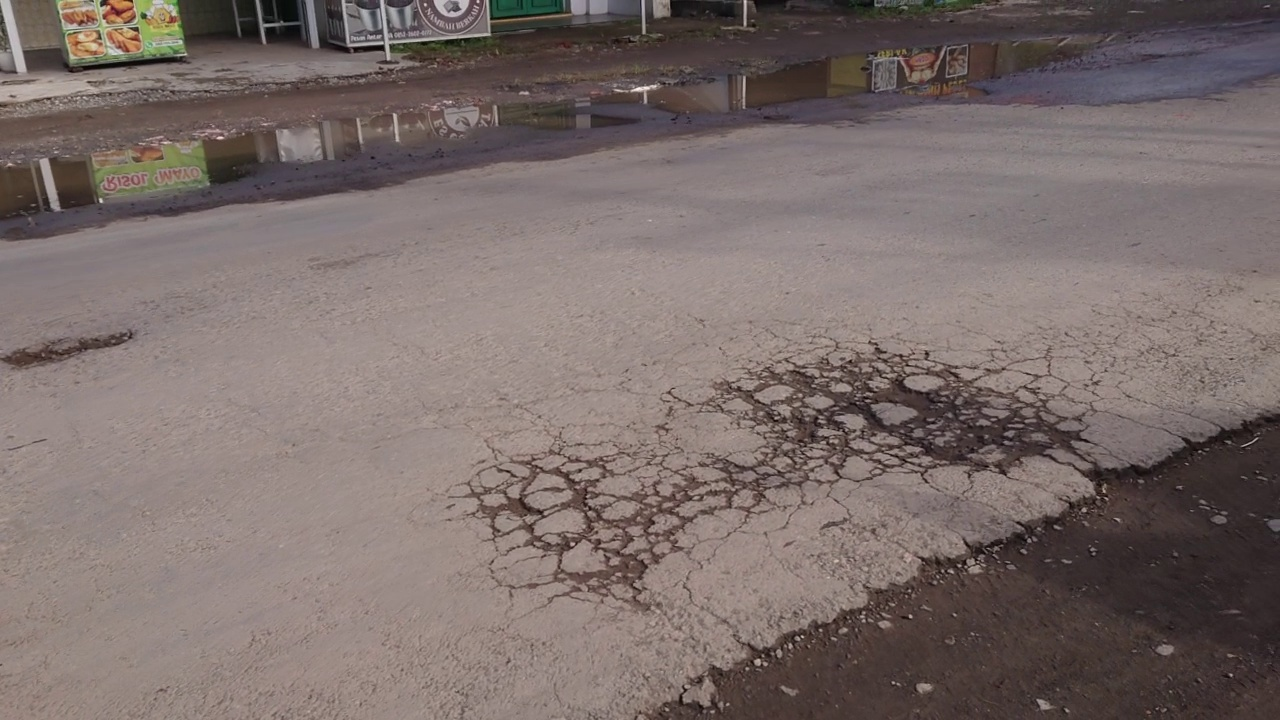Retak: (478, 350, 1078, 607)
